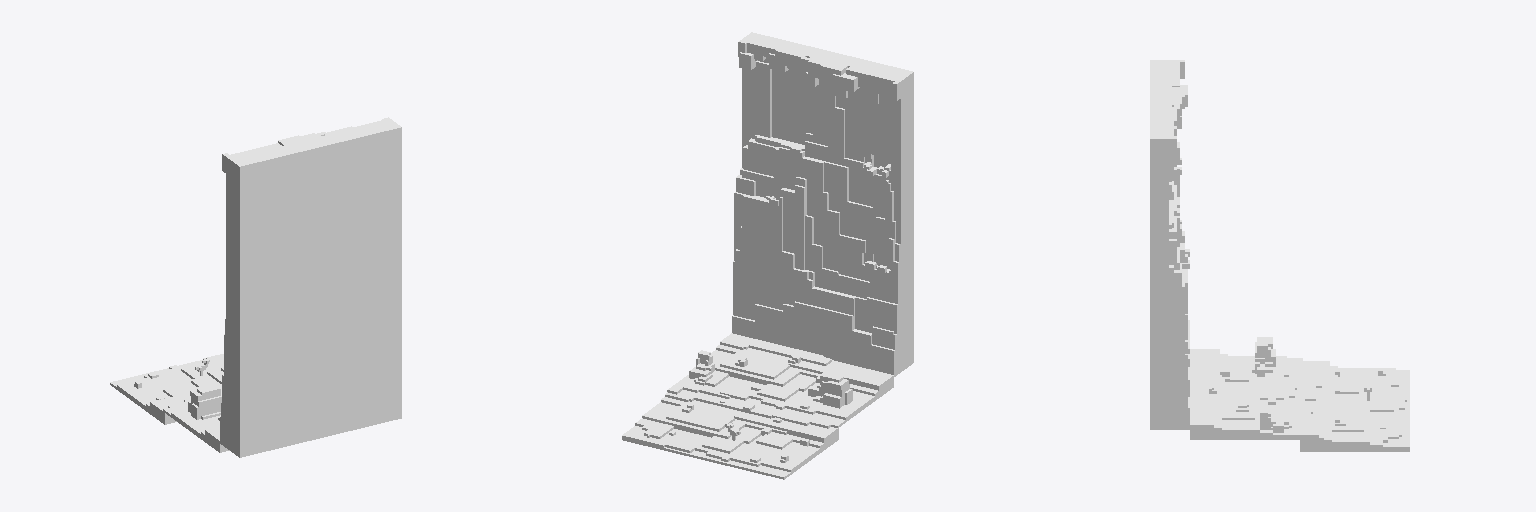
File: meadow_with_rocks.obj
The picture shows the model from 3 angles: view 1: azimuth 30°, elevation 25°; view 2: azimuth 150°, elevation 25°; view 3: azimuth 270°, elevation 25°; orthographic projection.
Parts seen in each view (by area): view 1: object 1; view 2: object 1; view 3: object 1.
Boxes of the visible parts, box(x1,y1,x2,y2) form: object 1: box(110, 117, 401, 457); object 1: box(622, 32, 913, 479); object 1: box(1150, 60, 1409, 451).
Bounding box in the file's own units: 7 × 12.9 × 9.7.